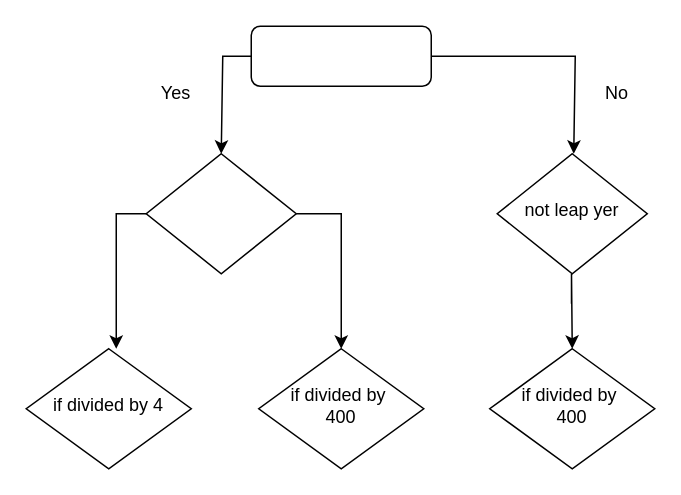
This 681x495 diagram has some shape labels left out. Here are the shapes that lost their labels. From the top down, the box of each, then its label:
(250, 25, 431, 86): is 2000 leap year?
(145, 152, 296, 274): leap year
